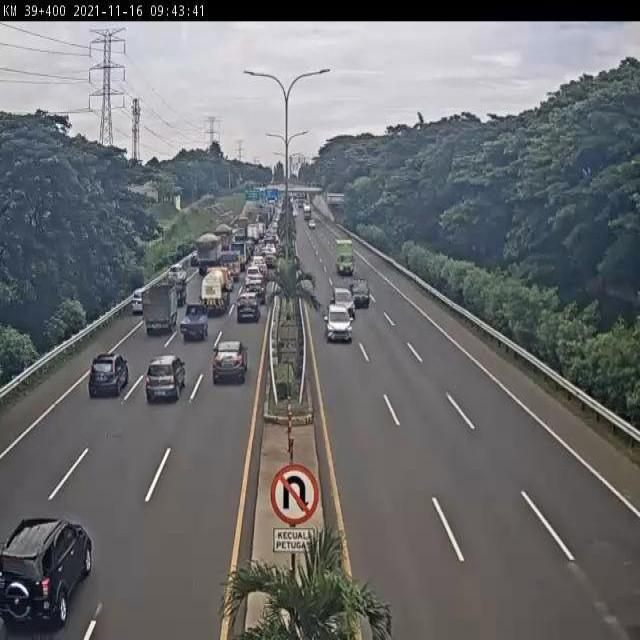car: (0, 516, 97, 640), (143, 352, 186, 409), (88, 352, 133, 404), (209, 343, 248, 392), (323, 301, 355, 343), (235, 292, 263, 327), (329, 285, 357, 319), (349, 277, 373, 311), (167, 274, 189, 306), (244, 279, 267, 308), (130, 285, 145, 319), (167, 262, 188, 286), (244, 265, 264, 288), (246, 275, 267, 293), (251, 253, 266, 272), (187, 248, 200, 269), (264, 251, 278, 268)
small truck: (141, 282, 180, 338), (200, 265, 231, 316), (178, 300, 212, 345), (333, 240, 357, 277), (218, 250, 242, 282)
truck-l-: (195, 234, 223, 278), (212, 223, 232, 252)
